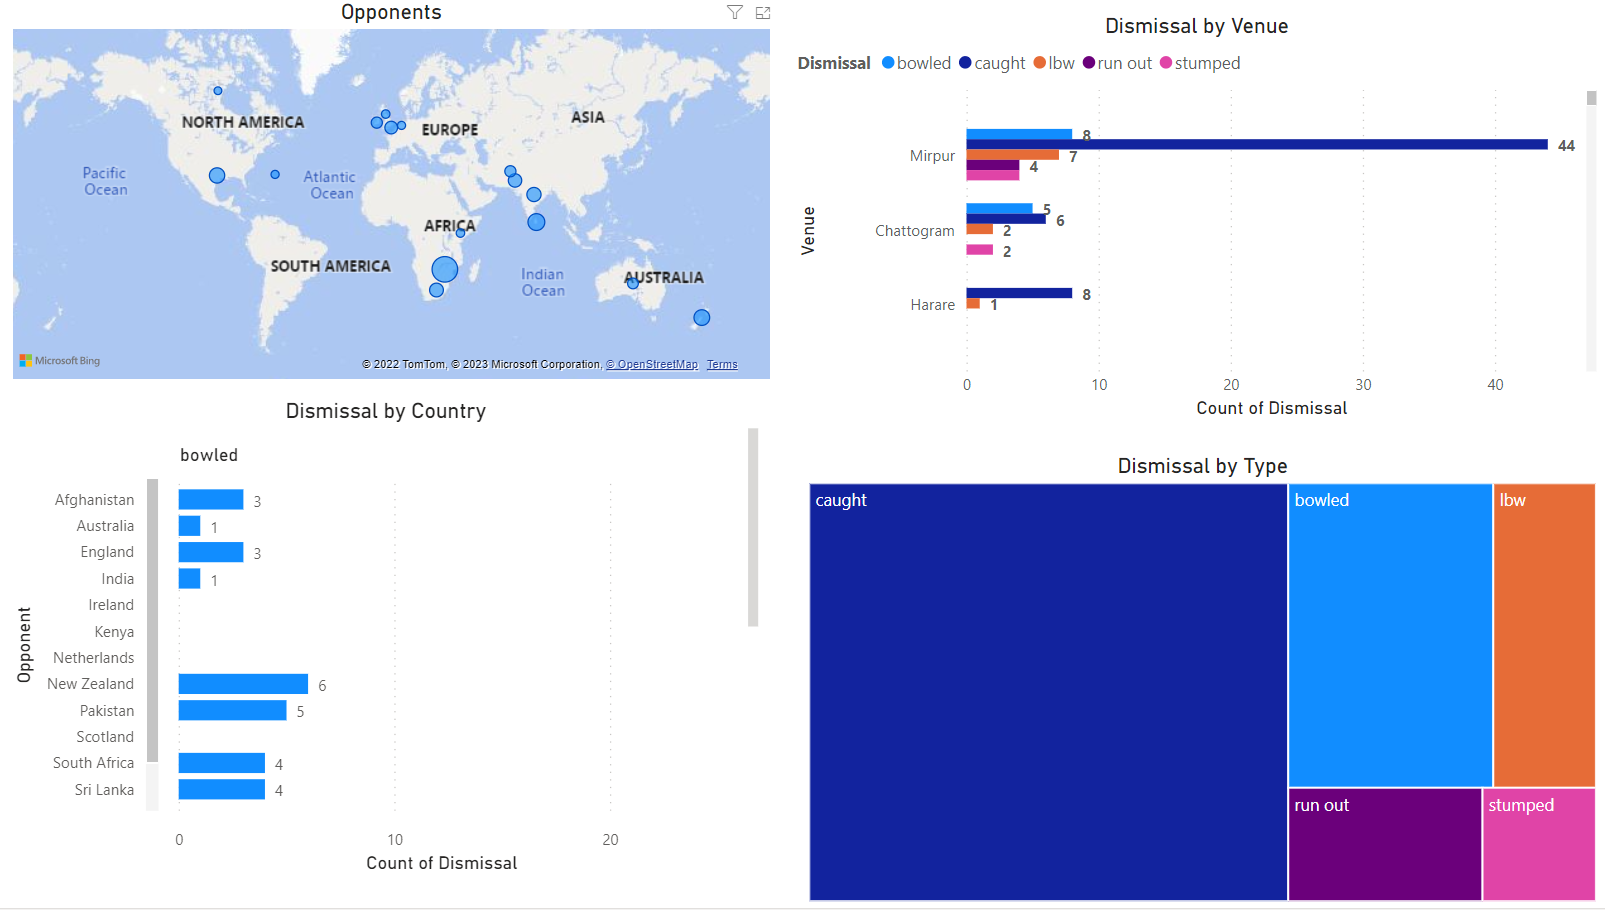

What the dashboard file says about the page in this screenshot:
{"tool":"powerbi","page":{"name":"Dismissal Statistics","canvas":[1280,720],"ordinal":1},"visuals":[{"type":"map","title":"Opponents","fields":{"Category":["ODI.Oppnent"],"Size":["CountNonNull(ODI.Dismissal)"]},"box":[9.7,0,608.9,306.4],"z":0},{"type":"clusteredBarChart","title":"Dismissal by Country","fields":{"Category":["ODI.Oppnent"],"Y":["CountNonNull(ODI.Dismissal)"],"Rows":["ODI.Dismissal"]},"box":[9.7,316.1,600.1,381.3],"z":1000},{"type":"clusteredBarChart","title":"Dismissal by Venue","fields":{"Y":["CountNonNull(ODI.Dismissal)"],"Category":["ODI.Venue"],"Series":["ODI.Dismissal"]},"box":[630.3,10.7,642.9,325.8],"z":2000},{"type":"treemap","title":"Dismissal by Type","fields":{"Group":["ODI.Dismissal"],"Values":["CountNonNull(ODI.Dismissal)"]},"box":[640,359.9,633.2,359.9],"z":3000}]}

Visuals, with their boxes in screenshot pixels (x1, y1, x2, y2), scaled from the page's 1280x720 canvas onto the 1605x910 screenshot:
"Opponents" map: region(12, 0, 776, 387)
"Dismissal by Country" clusteredBarChart: region(12, 400, 765, 881)
"Dismissal by Venue" clusteredBarChart: region(790, 14, 1596, 425)
"Dismissal by Type" treemap: region(802, 455, 1596, 909)
